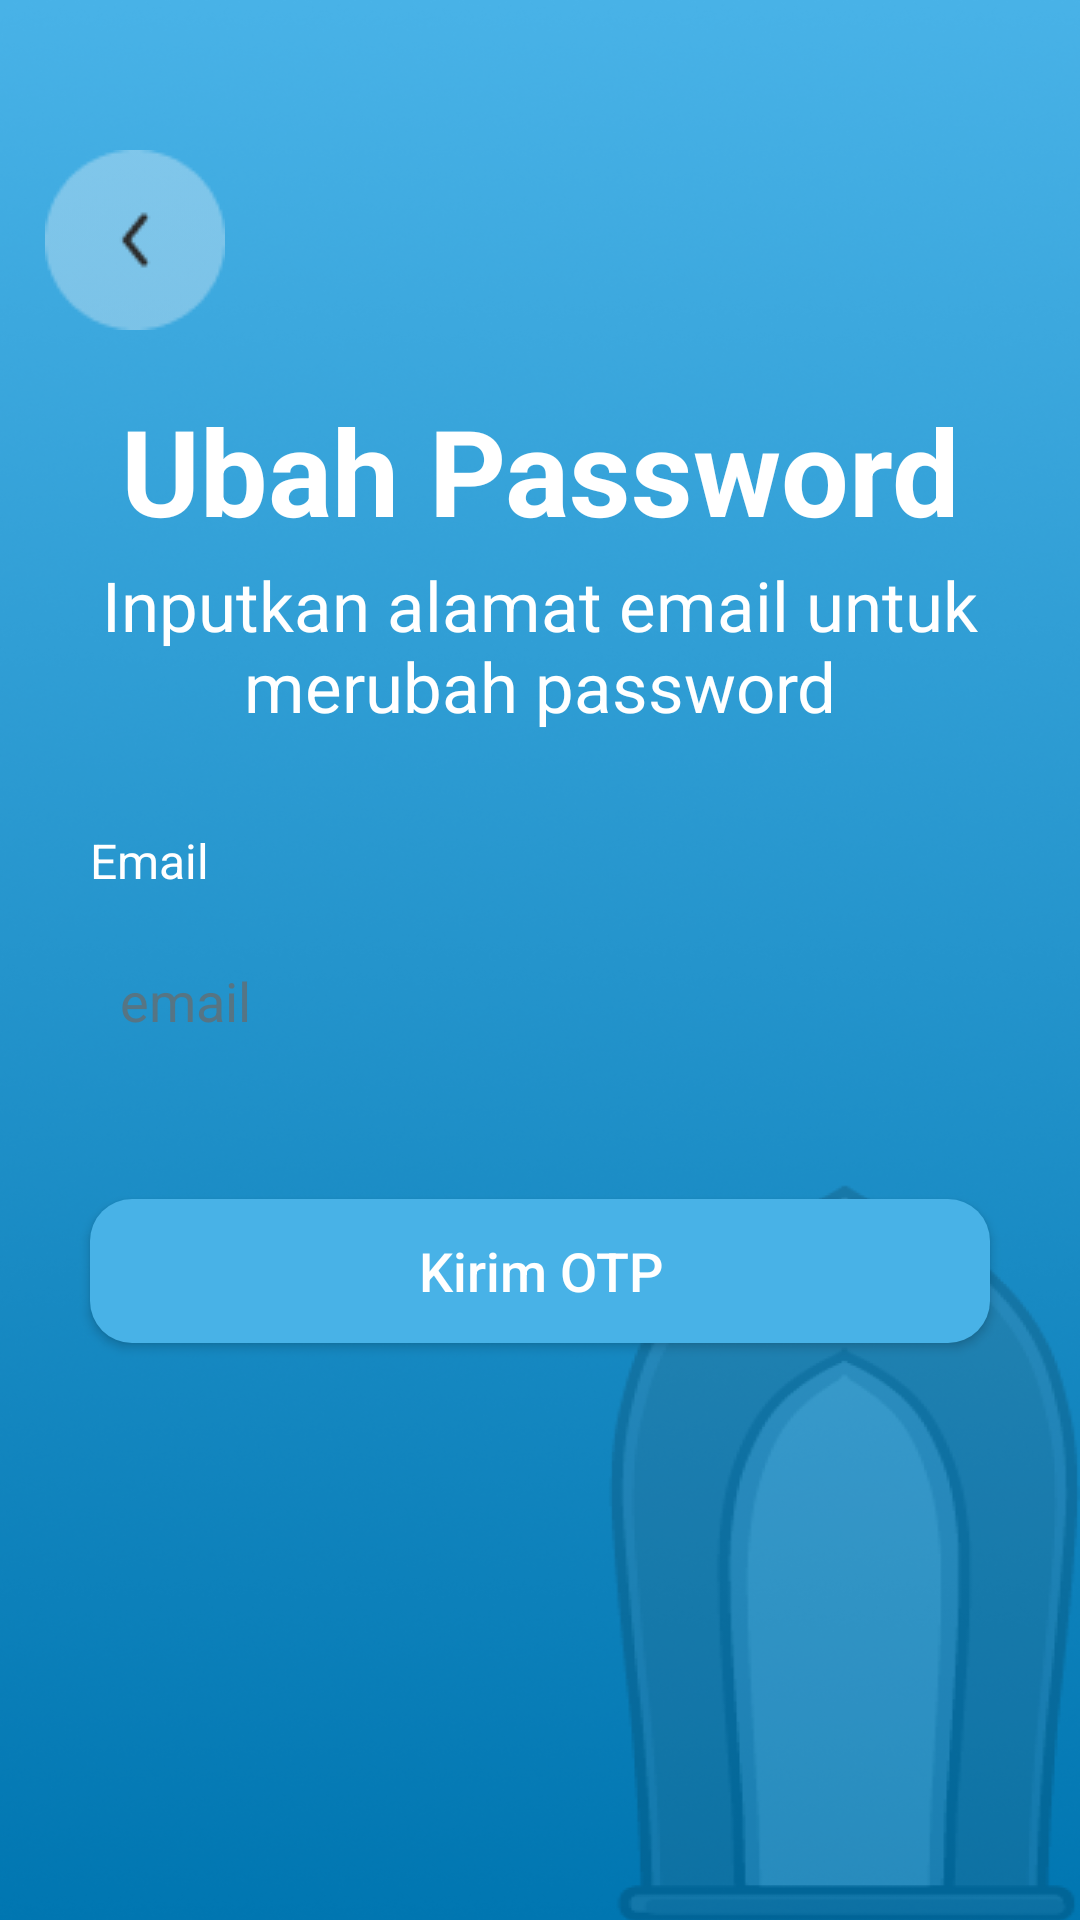

Icon bounding boxes for this 1080*1920 phone screenshot, format (x1, y1, x2, y2):
backbutton: (45, 150, 225, 330)
